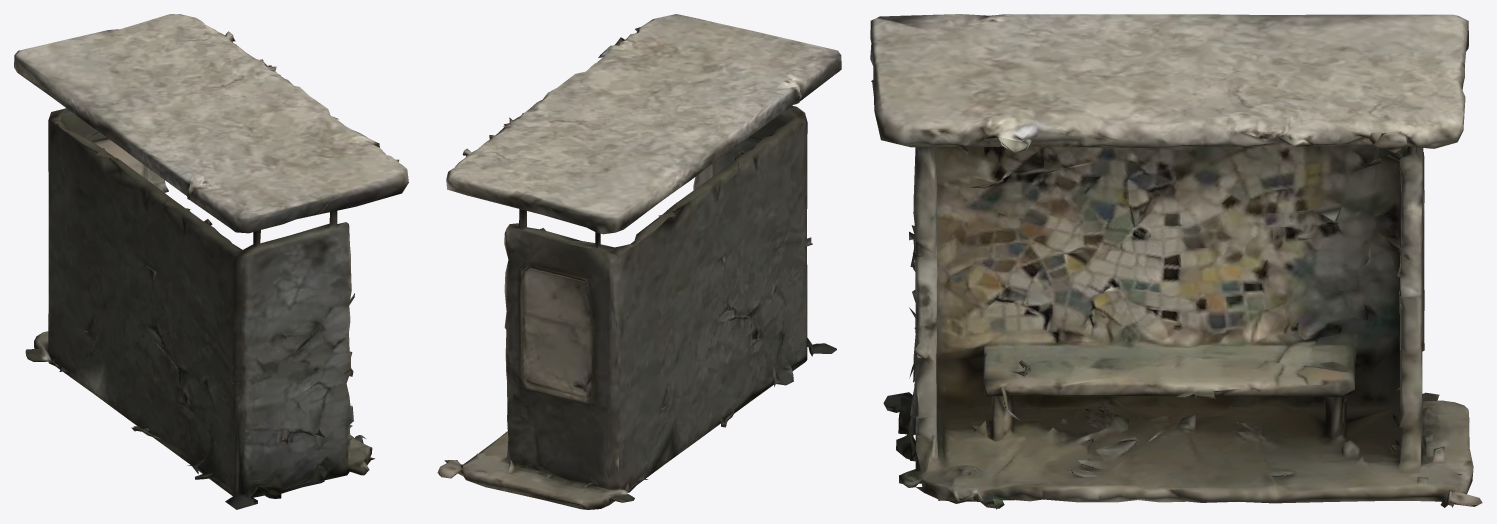
Rendered from p_busstop.glb.
3 renders of one model, left to right at view 1: azimuth 30°, elevation 25°; view 2: azimuth 150°, elevation 25°; view 3: azimuth 270°, elevation 25°, orthographic. The views are drawn at different scales.
Visible parts, largest first — view 1: tripo_node_c108c653-569f-4ea5-ae4c-5a8ef1d7dbfa; view 2: tripo_node_c108c653-569f-4ea5-ae4c-5a8ef1d7dbfa; view 3: tripo_node_c108c653-569f-4ea5-ae4c-5a8ef1d7dbfa.
Boxes of the visible parts, bbox=[...] form: tripo_node_c108c653-569f-4ea5-ae4c-5a8ef1d7dbfa: bbox=[14, 14, 408, 509]; tripo_node_c108c653-569f-4ea5-ae4c-5a8ef1d7dbfa: bbox=[437, 14, 841, 509]; tripo_node_c108c653-569f-4ea5-ae4c-5a8ef1d7dbfa: bbox=[870, 14, 1482, 509].
Bounding box in the file's own units: 0.4758 × 0.7088 × 1.
1 material, 1 textured.
